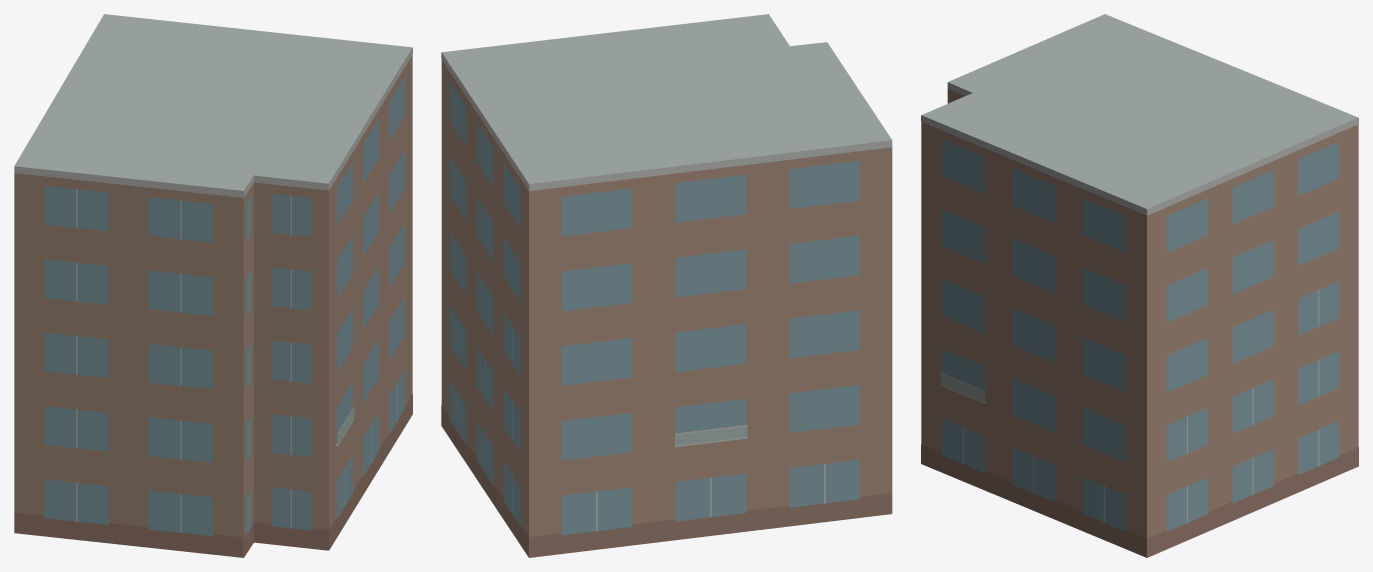
The model's file is survey-upis-32535139.glb.
3 views of the same model, side by side, from view 1: azimuth 30°, elevation 25°; view 2: azimuth 150°, elevation 25°; view 3: azimuth 270°, elevation 25° (orthographic). The views are drawn at different scales.
Visible parts, largest first — view 1: survey-upis-32535139.tmp; view 2: survey-upis-32535139.tmp; view 3: survey-upis-32535139.tmp.
Part boxes in pixels (<box>): survey-upis-32535139.tmp: <box>14,14,412,557</box>; survey-upis-32535139.tmp: <box>441,14,892,557</box>; survey-upis-32535139.tmp: <box>921,14,1358,557</box>.
Bounding box in the file's own units: 15.6 × 13 × 14.79.
